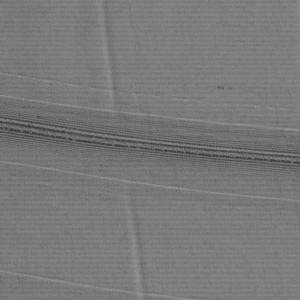Wrinkle: (94, 1, 153, 300)
